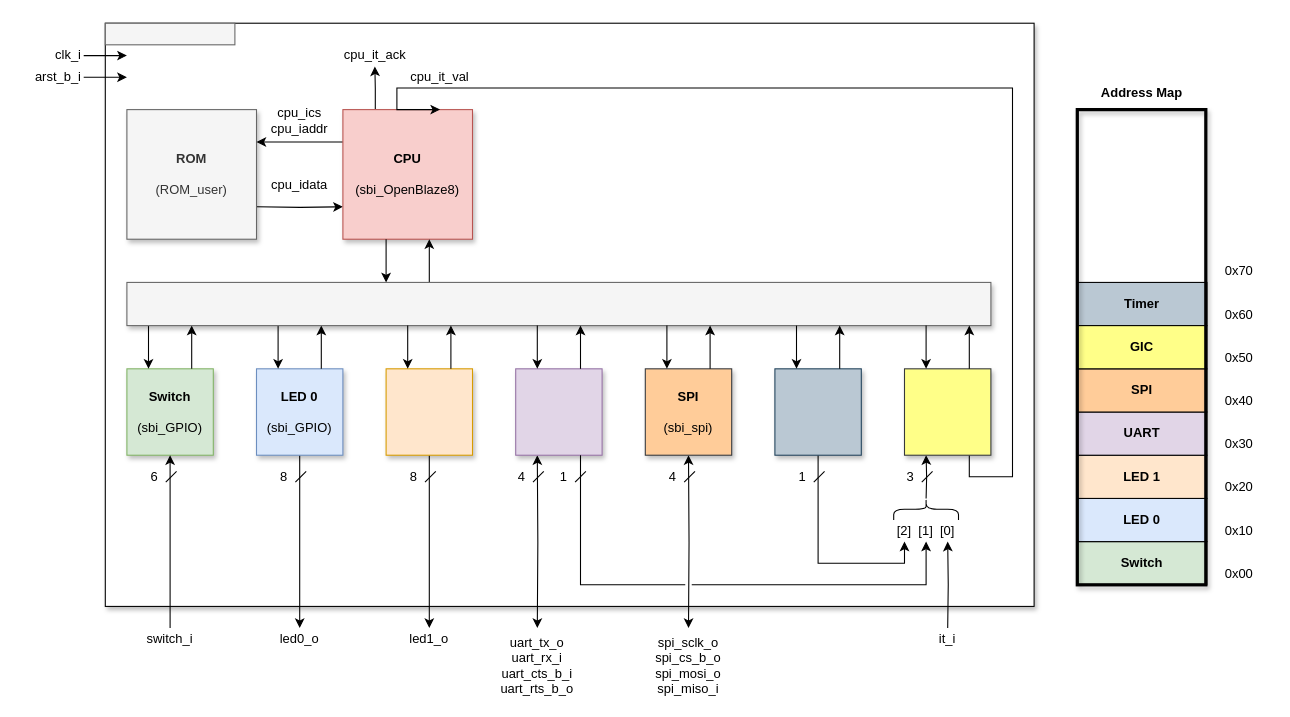
Image size: 1290x717. Some labels were removed from this diagram. Here are the shapes that lost their labels. From the top down, the centre of each, then its label:
the point at 169,33: PicoSoC_user
the point at 559,305: ICN (sbi_icn)
the point at 430,413: LED 1 (sbi_GPIO)
the point at 559,413: UART (sbi_uart)
the point at 819,413: Timer (sbi_timer)
the point at 948,413: GIC (sbi_GIC)
